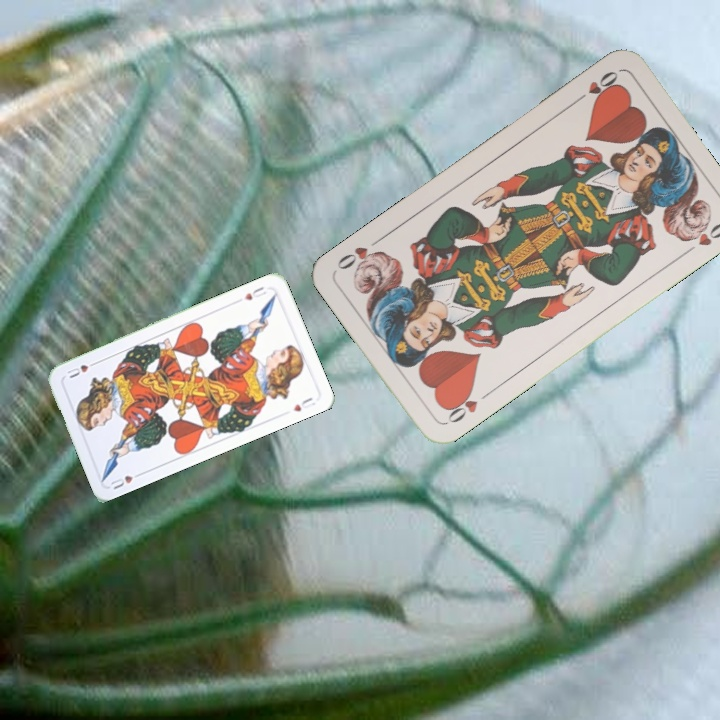HO: (441, 386, 493, 427), (570, 67, 621, 107)
HU: (106, 468, 145, 492), (240, 282, 269, 303)
